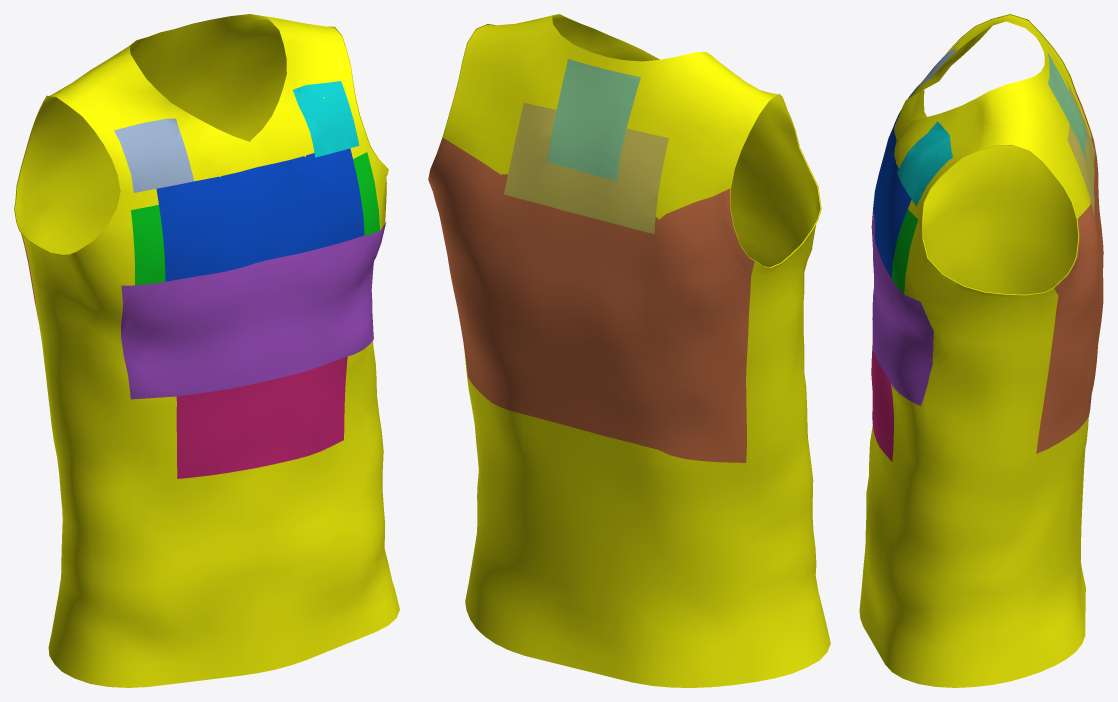
3 renders of one model, left to right at view 1: azimuth 30°, elevation 25°; view 2: azimuth 150°, elevation 25°; view 3: azimuth 270°, elevation 25°, orthographic. The views are drawn at different scales.
Visible parts, largest first — view 1: 228113; view 2: 228113; view 3: 228113.
Boxes of the visible parts, bbox=[...] form: 228113: bbox=[14, 14, 399, 687]; 228113: bbox=[428, 14, 830, 687]; 228113: bbox=[859, 14, 1103, 687].
Size of what is drawn, in the model's own units: 0.5417 by 0.9202 by 0.3644.
